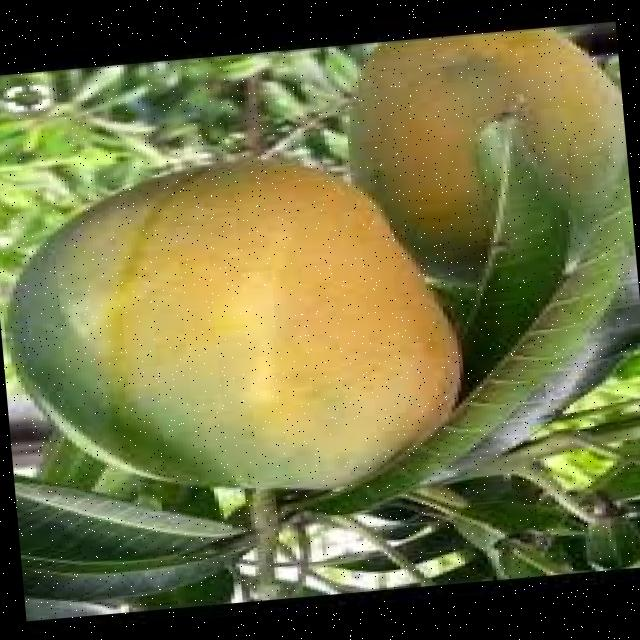mango: (3, 156, 460, 486)
